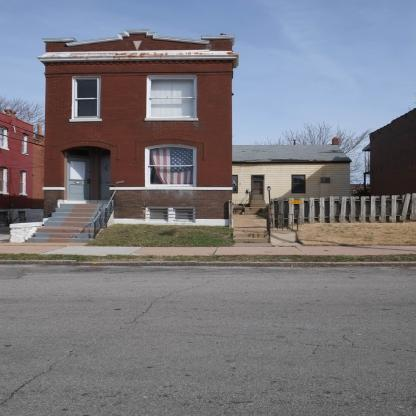stair: (29, 194, 114, 250)
